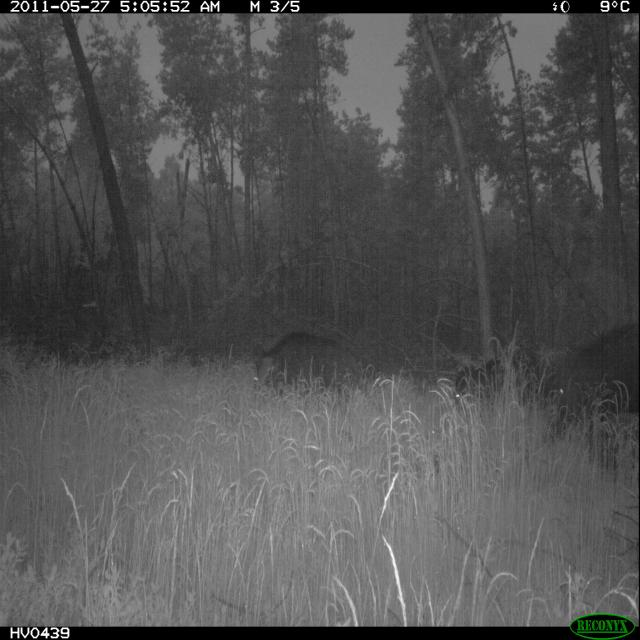boar: (516, 290, 640, 472), (232, 311, 388, 423), (435, 332, 511, 430)
